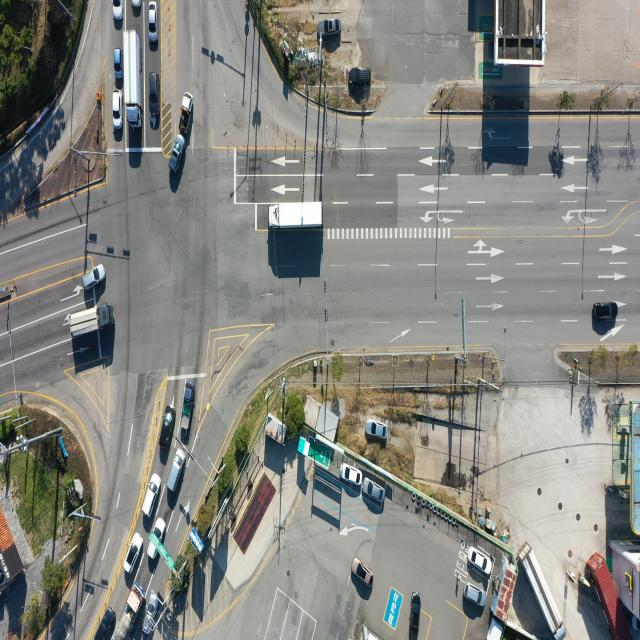car: (167, 448, 185, 494), (142, 473, 160, 519), (125, 532, 144, 574), (148, 518, 166, 562), (96, 605, 116, 640), (470, 547, 494, 575), (84, 264, 108, 291), (170, 132, 187, 170), (352, 559, 374, 587), (465, 584, 487, 609), (364, 480, 386, 505), (162, 412, 176, 450), (593, 302, 619, 322), (411, 592, 422, 638), (341, 462, 363, 484), (364, 419, 386, 439), (351, 66, 372, 84), (112, 91, 122, 128), (148, 2, 157, 42), (321, 19, 340, 36), (149, 71, 158, 106), (114, 49, 122, 78), (112, 0, 123, 20), (133, 0, 142, 12)
medium_truck: (522, 541, 566, 637), (113, 586, 145, 640), (67, 305, 113, 340), (269, 202, 322, 231), (127, 31, 143, 127), (180, 380, 194, 444)
small_truck: (181, 90, 197, 130)
